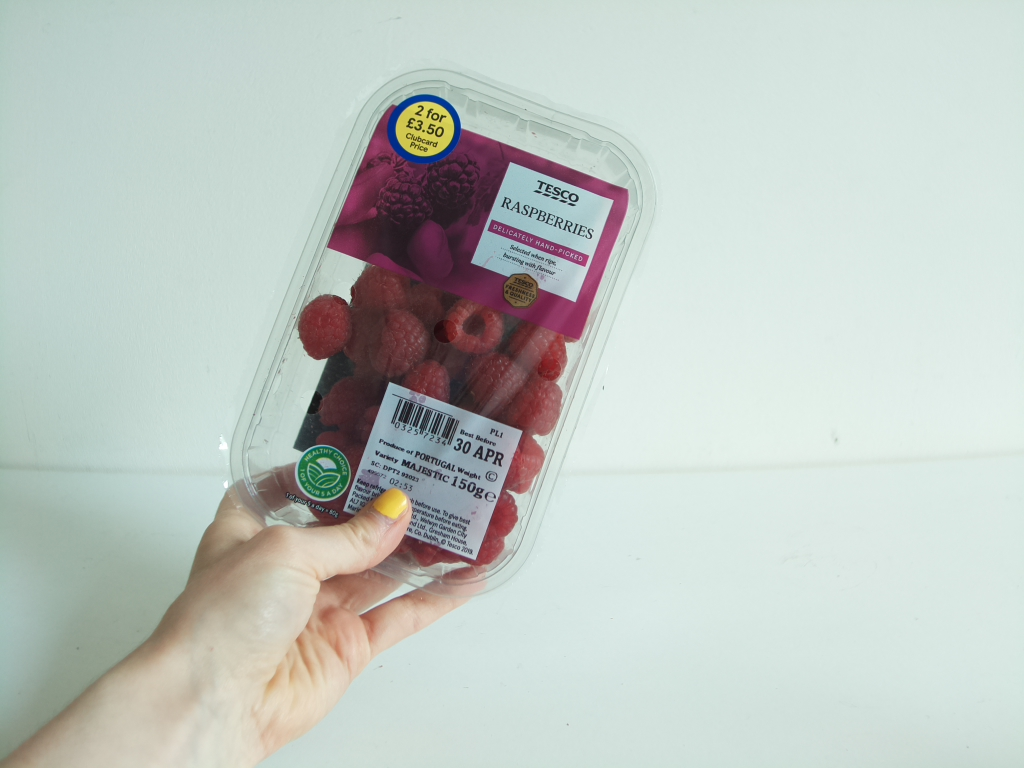soft-fruit: (226, 70, 654, 601)
